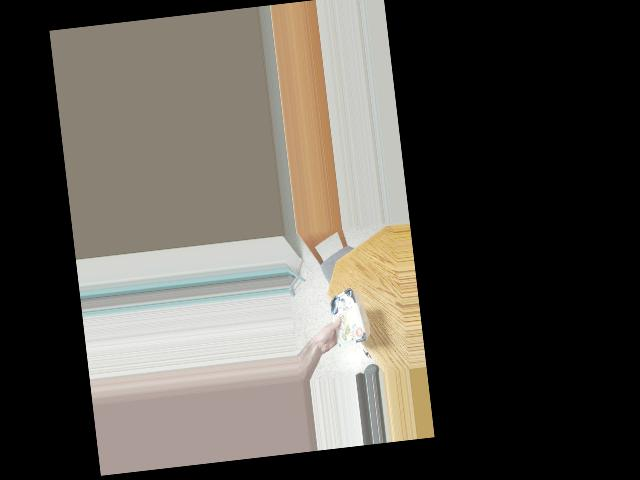cheese: (323, 290, 368, 345)
